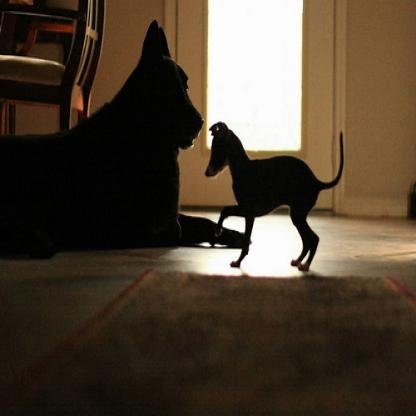chair: (0, 0, 107, 132)
dog: (0, 20, 248, 252), (205, 120, 345, 272)
